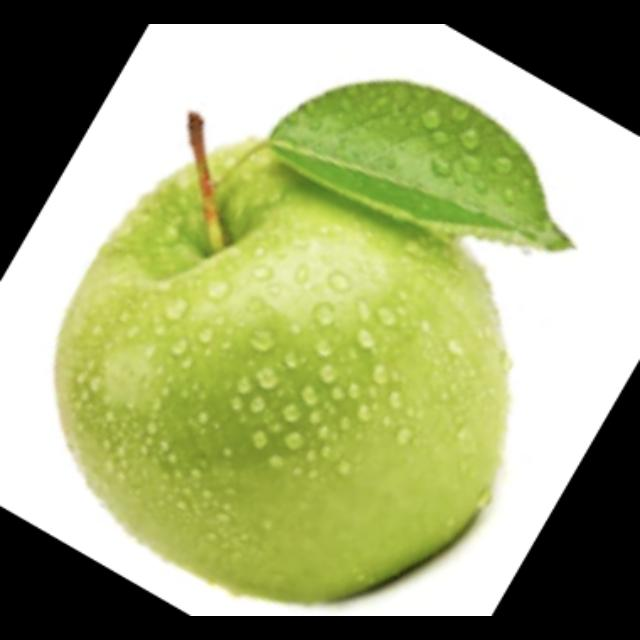Apel Segar: (59, 82, 522, 614)
